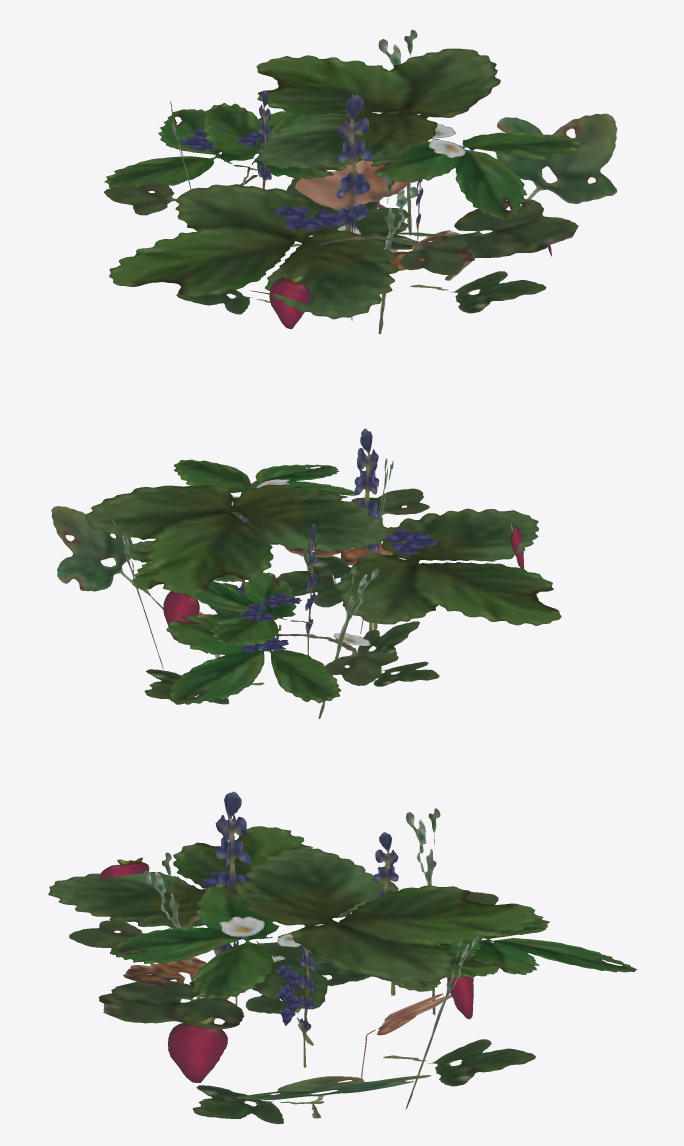
Rendered from arden_forest_strawberry_01_foliage.fbx.
The picture shows the model from 3 angles, top to bottom: view 1: azimuth 30°, elevation 25°; view 2: azimuth 150°, elevation 25°; view 3: azimuth 270°, elevation 25°; orthographic projection. The views are drawn at different scales.
Visible parts, largest first — view 1: arden_forest_strawberry_01_foliage; view 2: arden_forest_strawberry_01_foliage; view 3: arden_forest_strawberry_01_foliage.
Part boxes in pixels (box(x1,y1,x2,y2)): arden_forest_strawberry_01_foliage: box(104, 29, 617, 334); arden_forest_strawberry_01_foliage: box(51, 428, 561, 718); arden_forest_strawberry_01_foliage: box(48, 791, 636, 1124).
Size of the model in its own units: 52.21 by 25.17 by 49.29.
